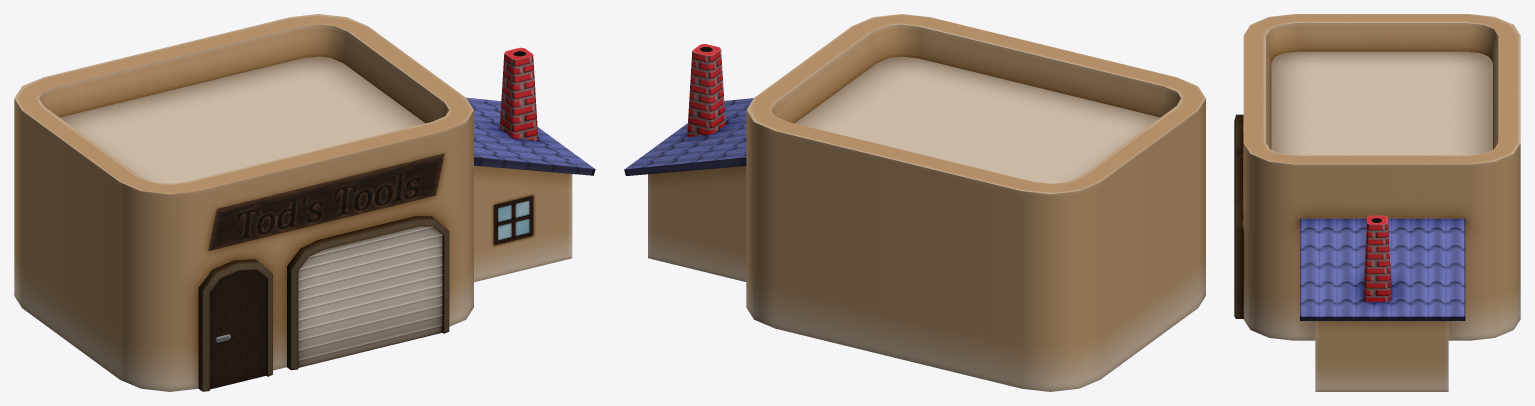
File: tool_store.fbx
3 renders of one model, left to right at view 1: azimuth 30°, elevation 25°; view 2: azimuth 150°, elevation 25°; view 3: azimuth 270°, elevation 25°, orthographic. The views are drawn at different scales.
Visible parts, largest first — view 1: tool_store_geo, door_geo; view 2: tool_store_geo; view 3: tool_store_geo.
Part boxes in pixels (x1,y1,x2,y2): tool_store_geo: (14, 14, 595, 391); door_geo: (210, 269, 266, 389); tool_store_geo: (624, 14, 1205, 391); tool_store_geo: (1234, 14, 1520, 391).
Bounding box in the file's own units: 12.44 × 4.91 × 7.23.
Materials: 1 (1 with a texture image).
